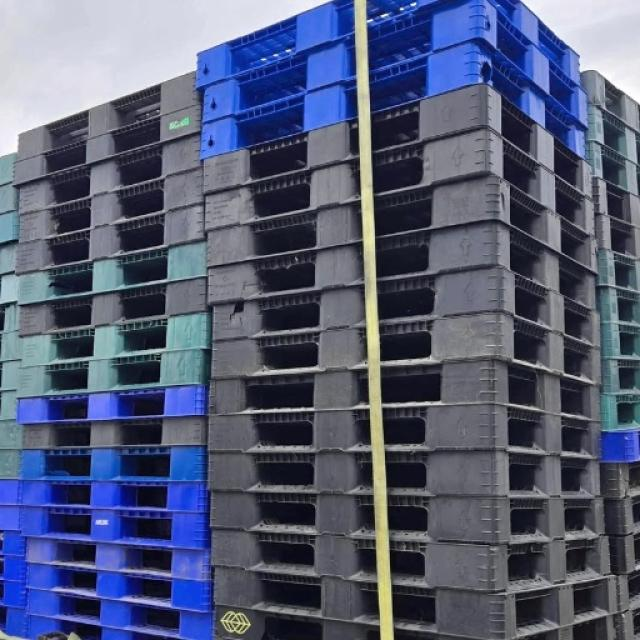non-igps: (193, 30, 591, 173), (195, 0, 592, 140), (198, 118, 600, 252), (196, 78, 600, 210), (200, 158, 606, 286), (200, 212, 603, 322), (206, 258, 607, 360), (186, 0, 586, 102), (202, 299, 608, 398), (200, 346, 608, 432), (205, 558, 626, 640), (206, 520, 619, 602), (201, 393, 607, 472), (204, 482, 611, 554), (200, 436, 606, 506), (12, 62, 212, 172), (9, 97, 211, 195), (12, 126, 211, 222), (13, 160, 214, 252), (8, 195, 216, 283), (12, 230, 214, 313), (13, 271, 214, 345), (15, 302, 218, 374), (12, 493, 216, 563), (205, 590, 484, 640), (16, 525, 218, 589), (11, 344, 214, 407), (20, 556, 218, 620), (20, 576, 218, 640), (11, 378, 214, 434), (14, 438, 215, 492), (13, 471, 216, 524), (18, 409, 216, 463), (576, 66, 640, 139), (582, 94, 640, 174), (576, 131, 640, 201), (582, 170, 640, 232), (589, 242, 640, 298), (590, 207, 640, 264), (594, 382, 640, 442), (592, 280, 640, 330), (594, 314, 640, 364), (594, 455, 640, 504), (594, 352, 640, 400), (591, 425, 640, 470), (598, 489, 640, 541), (599, 527, 640, 580), (613, 562, 640, 620), (0, 518, 32, 566), (0, 546, 33, 591), (0, 576, 32, 618), (0, 599, 32, 639), (610, 599, 638, 640)
